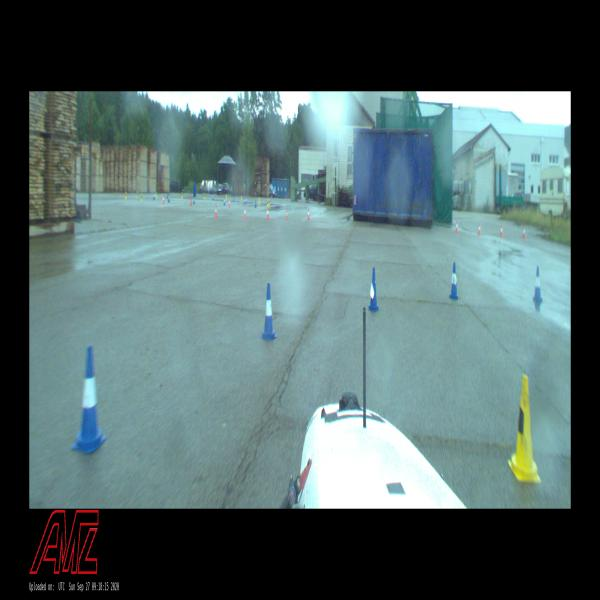blue_cone: (71, 346, 107, 453), (260, 283, 277, 339), (368, 268, 379, 312), (449, 263, 459, 299), (532, 266, 542, 301), (193, 196, 195, 204), (168, 194, 170, 202), (243, 198, 245, 205), (245, 197, 247, 203), (224, 196, 225, 206), (255, 200, 256, 208)
orange_cone: (214, 205, 218, 218), (522, 226, 526, 238), (500, 224, 503, 237), (455, 221, 458, 233), (285, 209, 288, 220), (266, 208, 269, 219), (478, 224, 481, 234), (308, 209, 310, 220), (244, 207, 246, 218), (190, 196, 192, 206), (228, 200, 230, 208), (163, 196, 164, 204)
yellow_cone: (507, 374, 541, 483), (141, 194, 143, 202), (125, 192, 127, 199), (269, 198, 270, 206), (267, 198, 268, 206)
